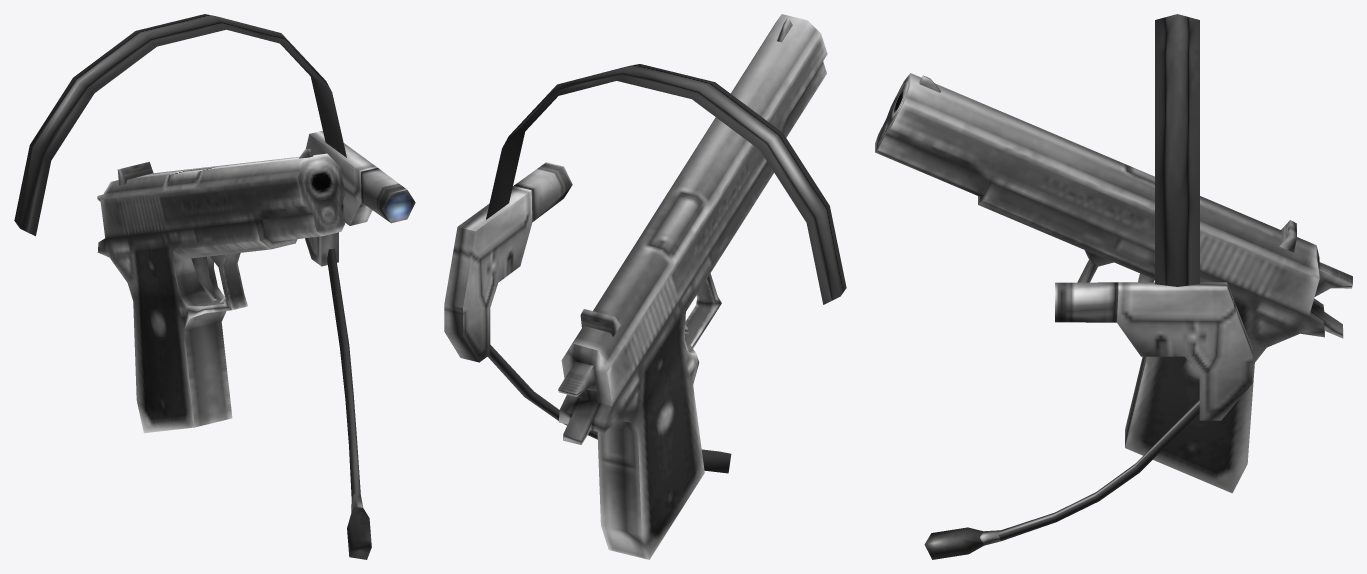
The model's file is icon.ico.obj.
3 renders of one model, left to right at view 1: azimuth 30°, elevation 25°; view 2: azimuth 150°, elevation 25°; view 3: azimuth 270°, elevation 25°, orthographic. The views are drawn at different scales.
Bounding box in the file's own units: 3.71 × 4.91 × 4.32.
Materials: 1 (1 with a texture image).
